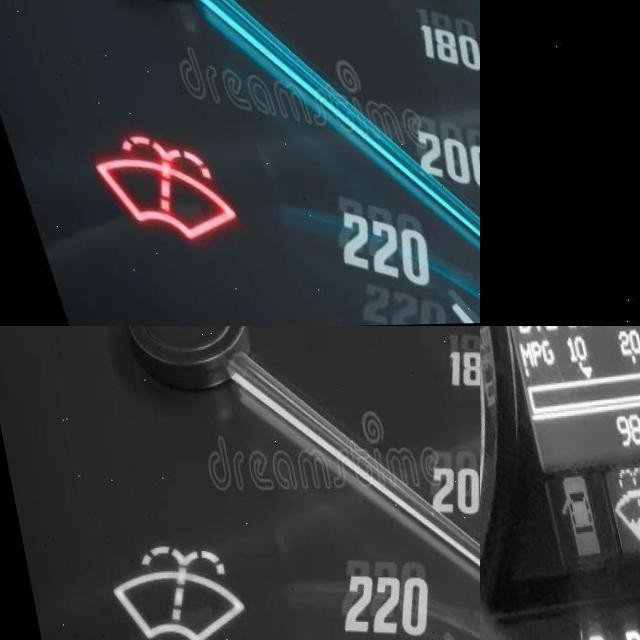Washer Fluid: (74, 133, 219, 241), (90, 544, 234, 640), (576, 467, 640, 546)
